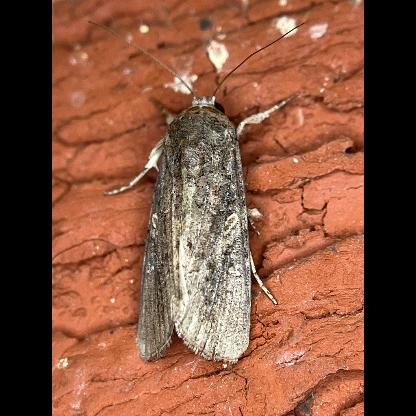Fall Armyworm Moth: (85, 19, 309, 368)
